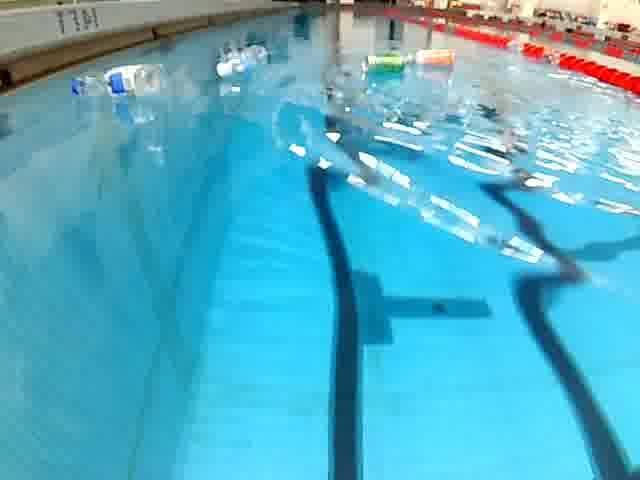Bottle: (65, 60, 177, 103), (210, 43, 272, 81), (404, 44, 459, 73)
Can: (354, 49, 408, 77)
